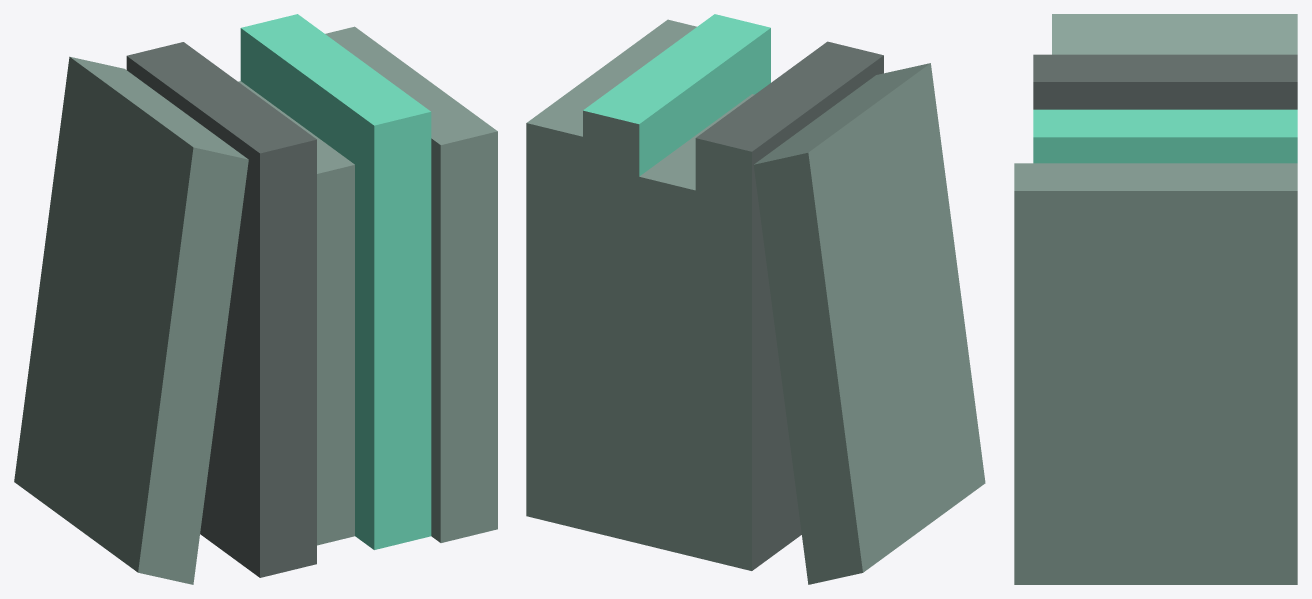
Rendered from books.glb.
3 renders of one model, left to right at view 1: azimuth 30°, elevation 25°; view 2: azimuth 150°, elevation 25°; view 3: azimuth 270°, elevation 25°, orthographic.
Parts seen in each view (by area): view 1: books(Clone); view 2: books(Clone); view 3: books(Clone).
Boxes of the visible parts, x1,y1,x2,y2 form: books(Clone): [14, 14, 497, 584]; books(Clone): [526, 14, 985, 584]; books(Clone): [1014, 14, 1297, 584].
Bounding box in the file's own units: 0.22 × 0.27 × 0.16.
